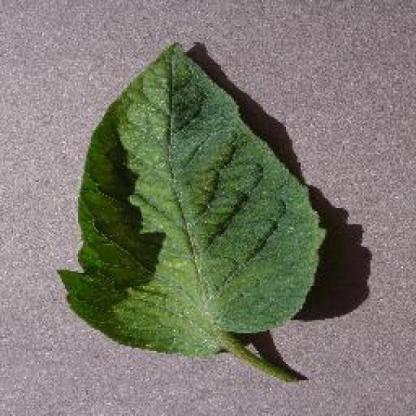Tomato_Spider_Mites: (59, 42, 326, 353)
